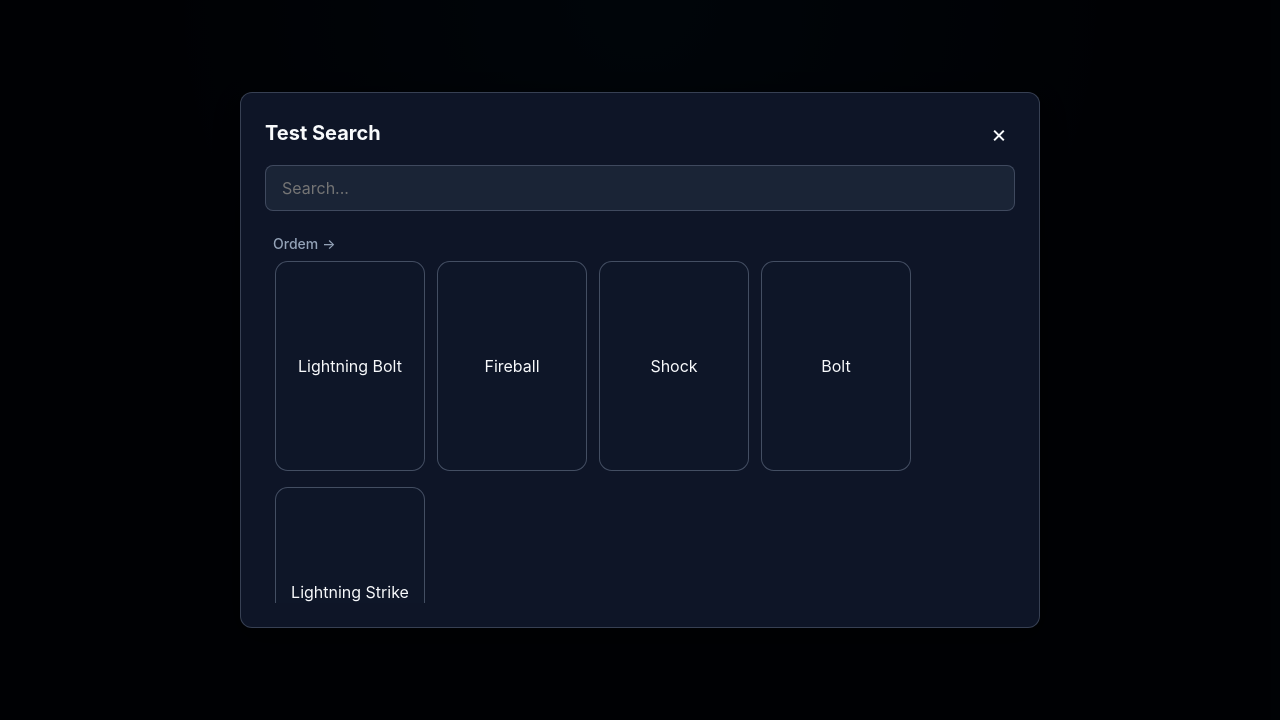
Test: CardSearchBase › Search functionality › should show "No cards found" when search has no results
In the field with placeholder "Search...": [640, 188] box [265,165,1015,211], type "NonExistentCard"
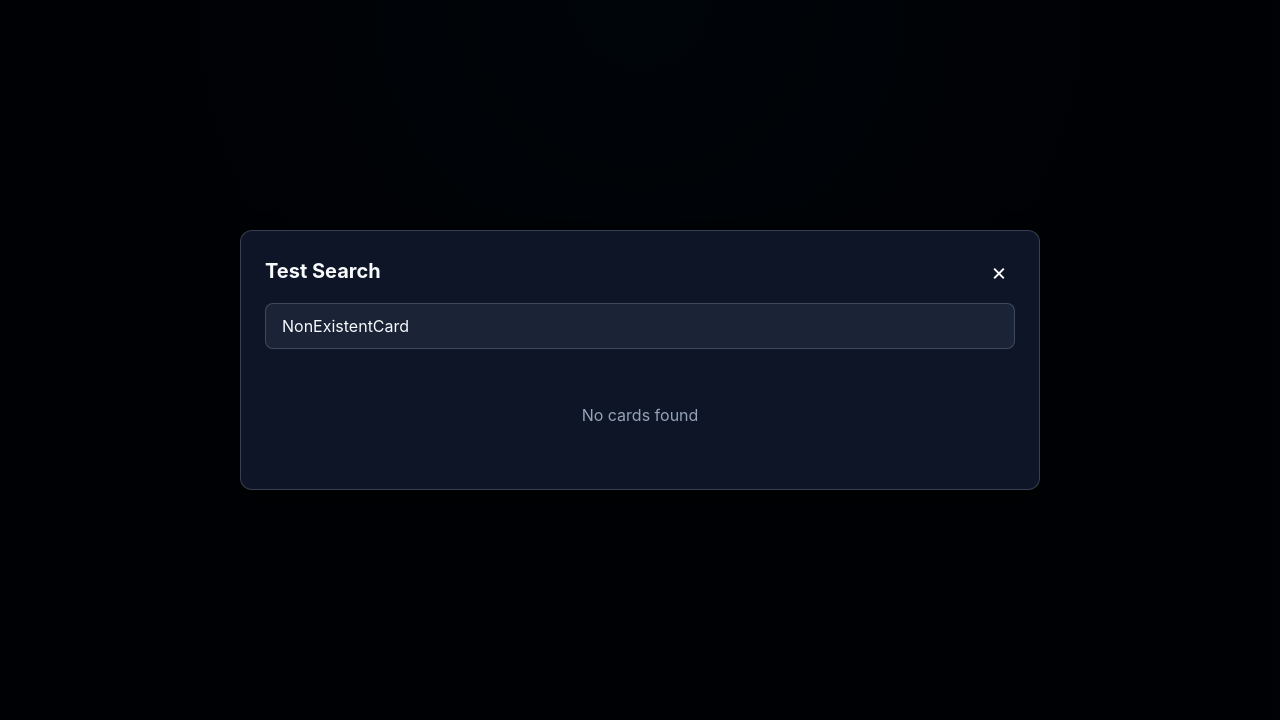
Expected: the text "No cards found" is shown, [582,405,698,425]
